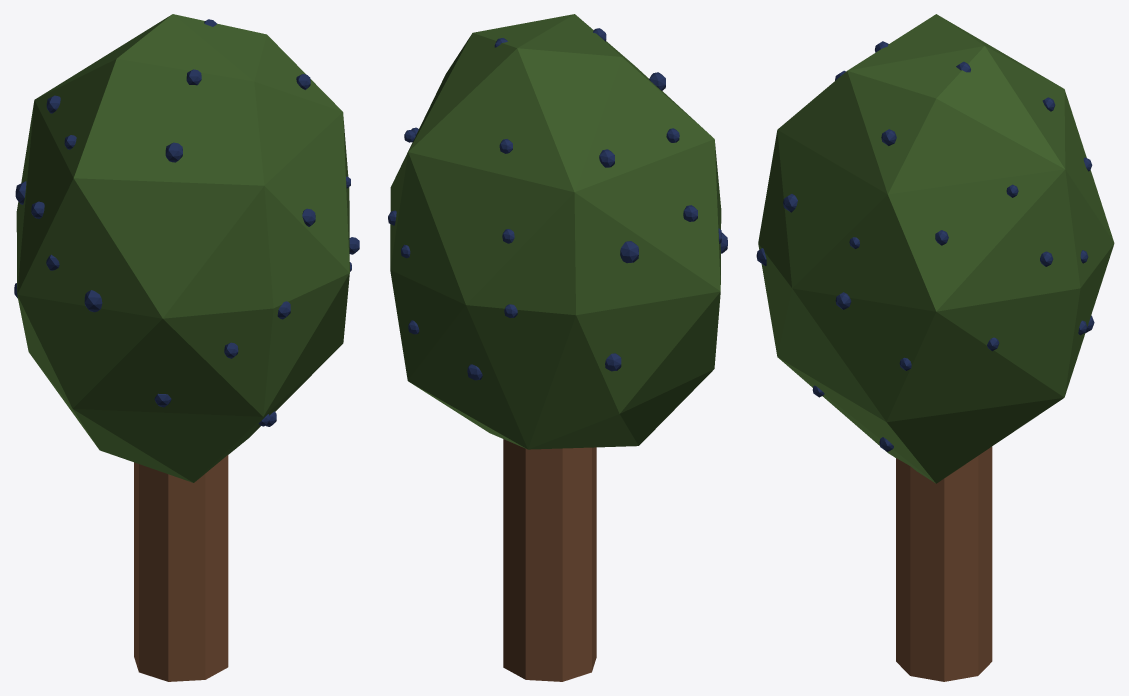
Rendered from Tree_5.fbx.
The picture shows the model from 3 angles, left to right: view 1: azimuth 30°, elevation 25°; view 2: azimuth 150°, elevation 25°; view 3: azimuth 270°, elevation 25°; orthographic projection.
Parts seen in each view (by area): view 1: Tree_5; view 2: Tree_5; view 3: Tree_5.
Part boxes in pixels (bbox=[...]): Tree_5: bbox=[14, 14, 359, 681]; Tree_5: bbox=[388, 14, 727, 681]; Tree_5: bbox=[756, 14, 1114, 681].
Size of the model in its own units: 211 by 382 by 200.
